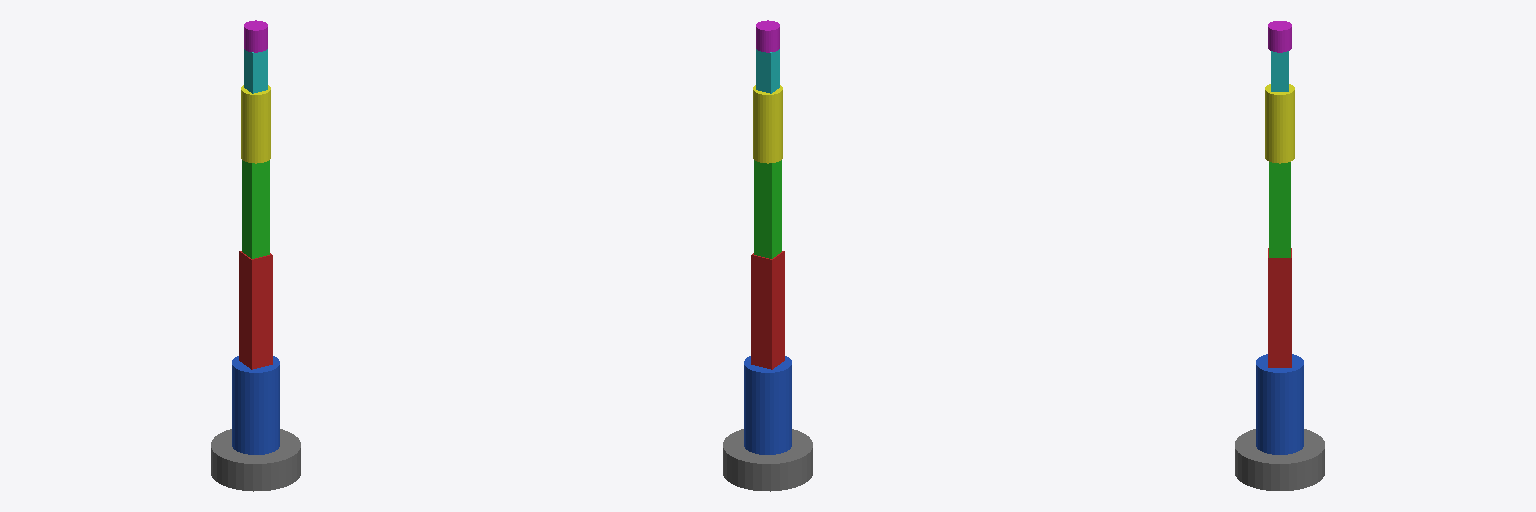
URDF robot description (six_axis_arm):
<?xml version="1.0"?>
<robot name="six_axis_arm">
  
  <!-- Base Link -->
  <link name="base_link">
    <visual>
      <geometry>
        <cylinder length="0.1" radius="0.15"/>
      </geometry>
      <origin xyz="0 0 0.05" rpy="0 0 0"/>
      <material name="gray">
        <color rgba="0.5 0.5 0.5 1"/>
      </material>
    </visual>
    <collision>
      <geometry>
        <cylinder length="0.1" radius="0.15"/>
      </geometry>
      <origin xyz="0 0 0.05" rpy="0 0 0"/>
    </collision>
    <inertial>
      <mass value="5.0"/>
      <origin xyz="0 0 0.05" rpy="0 0 0"/>
      <inertia ixx="0.1" ixy="0" ixz="0" iyy="0.1" iyz="0" izz="0.1"/>
    </inertial>
  </link>

  <!-- Link 1 -->
  <link name="link1">
    <visual>
      <geometry>
        <cylinder length="0.3" radius="0.08"/>
      </geometry>
      <origin xyz="0 0 0.15" rpy="0 0 0"/>
      <material name="blue">
        <color rgba="0.2 0.4 0.8 1"/>
      </material>
    </visual>
    <collision>
      <geometry>
        <cylinder length="0.3" radius="0.08"/>
      </geometry>
      <origin xyz="0 0 0.15" rpy="0 0 0"/>
    </collision>
    <inertial>
      <mass value="3.0"/>
      <origin xyz="0 0 0.15" rpy="0 0 0"/>
      <inertia ixx="0.05" ixy="0" ixz="0" iyy="0.05" iyz="0" izz="0.02"/>
    </inertial>
  </link>

  <!-- Joint 1: Base to Link 1 (Revolute, Z-axis rotation) -->
  <joint name="joint1" type="revolute">
    <parent link="base_link"/>
    <child link="link1"/>
    <origin xyz="0 0 0.1" rpy="0 0 0"/>
    <axis xyz="0 0 1"/>
    <limit lower="-3.14159" upper="3.14159" effort="100" velocity="1.0"/>
  </joint>

  <!-- Link 2 -->
  <link name="link2">
    <visual>
      <geometry>
        <box size="0.08 0.08 0.4"/>
      </geometry>
      <origin xyz="0 0 0.2" rpy="0 0 0"/>
      <material name="red">
        <color rgba="0.8 0.2 0.2 1"/>
      </material>
    </visual>
    <collision>
      <geometry>
        <box size="0.08 0.08 0.4"/>
      </geometry>
      <origin xyz="0 0 0.2" rpy="0 0 0"/>
    </collision>
    <inertial>
      <mass value="2.5"/>
      <origin xyz="0 0 0.2" rpy="0 0 0"/>
      <inertia ixx="0.04" ixy="0" ixz="0" iyy="0.04" iyz="0" izz="0.015"/>
    </inertial>
  </link>

  <!-- Joint 2: Link 1 to Link 2 (Revolute, Y-axis rotation) -->
  <joint name="joint2" type="revolute">
    <parent link="link1"/>
    <child link="link2"/>
    <origin xyz="0 0 0.3" rpy="0 0 0"/>
    <axis xyz="0 1 0"/>
    <limit lower="-1.57" upper="1.57" effort="100" velocity="1.0"/>
  </joint>

  <!-- Link 3 -->
  <link name="link3">
    <visual>
      <geometry>
        <box size="0.07 0.07 0.35"/>
      </geometry>
      <origin xyz="0 0 0.175" rpy="0 0 0"/>
      <material name="green">
        <color rgba="0.2 0.8 0.2 1"/>
      </material>
    </visual>
    <collision>
      <geometry>
        <box size="0.07 0.07 0.35"/>
      </geometry>
      <origin xyz="0 0 0.175" rpy="0 0 0"/>
    </collision>
    <inertial>
      <mass value="2.0"/>
      <origin xyz="0 0 0.175" rpy="0 0 0"/>
      <inertia ixx="0.03" ixy="0" ixz="0" iyy="0.03" iyz="0" izz="0.01"/>
    </inertial>
  </link>

  <!-- Joint 3: Link 2 to Link 3 (Revolute, Y-axis rotation) -->
  <joint name="joint3" type="revolute">
    <parent link="link2"/>
    <child link="link3"/>
    <origin xyz="0 0 0.4" rpy="0 0 0"/>
    <axis xyz="0 1 0"/>
    <limit lower="-2.0" upper="2.0" effort="100" velocity="1.0"/>
  </joint>

  <!-- Link 4 -->
  <link name="link4">
    <visual>
      <geometry>
        <cylinder length="0.25" radius="0.05"/>
      </geometry>
      <origin xyz="0 0 0.125" rpy="0 0 0"/>
      <material name="yellow">
        <color rgba="0.9 0.9 0.2 1"/>
      </material>
    </visual>
    <collision>
      <geometry>
        <cylinder length="0.25" radius="0.05"/>
      </geometry>
      <origin xyz="0 0 0.125" rpy="0 0 0"/>
    </collision>
    <inertial>
      <mass value="1.5"/>
      <origin xyz="0 0 0.125" rpy="0 0 0"/>
      <inertia ixx="0.02" ixy="0" ixz="0" iyy="0.02" iyz="0" izz="0.008"/>
    </inertial>
  </link>

  <!-- Joint 4: Link 3 to Link 4 (Revolute, Z-axis rotation) -->
  <joint name="joint4" type="revolute">
    <parent link="link3"/>
    <child link="link4"/>
    <origin xyz="0 0 0.35" rpy="0 0 0"/>
    <axis xyz="0 0 1"/>
    <limit lower="-3.14159" upper="3.14159" effort="50" velocity="1.5"/>
  </joint>

  <!-- Link 5 -->
  <link name="link5">
    <visual>
      <geometry>
        <box size="0.06 0.06 0.15"/>
      </geometry>
      <origin xyz="0 0 0.075" rpy="0 0 0"/>
      <material name="cyan">
        <color rgba="0.2 0.8 0.8 1"/>
      </material>
    </visual>
    <collision>
      <geometry>
        <box size="0.06 0.06 0.15"/>
      </geometry>
      <origin xyz="0 0 0.075" rpy="0 0 0"/>
    </collision>
    <inertial>
      <mass value="1.0"/>
      <origin xyz="0 0 0.075" rpy="0 0 0"/>
      <inertia ixx="0.01" ixy="0" ixz="0" iyy="0.01" iyz="0" izz="0.005"/>
    </inertial>
  </link>

  <!-- Joint 5: Link 4 to Link 5 (Revolute, Y-axis rotation) -->
  <joint name="joint5" type="revolute">
    <parent link="link4"/>
    <child link="link5"/>
    <origin xyz="0 0 0.25" rpy="0 0 0"/>
    <axis xyz="0 1 0"/>
    <limit lower="-1.57" upper="1.57" effort="50" velocity="1.5"/>
  </joint>

  <!-- Link 6 (End Effector) -->
  <link name="link6">
    <visual>
      <geometry>
        <cylinder length="0.08" radius="0.04"/>
      </geometry>
      <origin xyz="0 0 0.04" rpy="0 0 0"/>
      <material name="magenta">
        <color rgba="0.8 0.2 0.8 1"/>
      </material>
    </visual>
    <collision>
      <geometry>
        <cylinder length="0.08" radius="0.04"/>
      </geometry>
      <origin xyz="0 0 0.04" rpy="0 0 0"/>
    </collision>
    <inertial>
      <mass value="0.5"/>
      <origin xyz="0 0 0.04" rpy="0 0 0"/>
      <inertia ixx="0.005" ixy="0" ixz="0" iyy="0.005" iyz="0" izz="0.003"/>
    </inertial>
  </link>

  <!-- Joint 6: Link 5 to Link 6 (Revolute, Z-axis rotation) -->
  <joint name="joint6" type="revolute">
    <parent link="link5"/>
    <child link="link6"/>
    <origin xyz="0 0 0.15" rpy="0 0 0"/>
    <axis xyz="0 0 1"/>
    <limit lower="-3.14159" upper="3.14159" effort="25" velocity="2.0"/>
  </joint>

</robot>

--- Render facts (derived) ---
3 views of the same robot in one strip: view 1: azimuth 30°, elevation 25°; view 2: azimuth 150°, elevation 25°; view 3: azimuth 270°, elevation 25° (orthographic).
Model six_axis_arm with 7 links and 6 joints (6 revolute), rooted at base_link, posed every joint at zero.
Visible links, largest first — view 1: link1, base_link, link2, link3, link4, link5, link6; view 2: link1, base_link, link2, link3, link4, link5, link6; view 3: link1, base_link, link2, link4, link3, link5, link6.
Link boxes in pixels (bbox=[...]): link1: bbox=[232, 356, 279, 454]; base_link: bbox=[211, 429, 300, 491]; link2: bbox=[239, 251, 272, 369]; link3: bbox=[242, 160, 269, 258]; link4: bbox=[241, 85, 270, 163]; link5: bbox=[244, 49, 267, 93]; link6: bbox=[244, 20, 267, 52]; link1: bbox=[744, 356, 791, 454]; base_link: bbox=[723, 429, 812, 491]; link2: bbox=[751, 251, 784, 369]; link3: bbox=[754, 160, 781, 258]; link4: bbox=[753, 85, 782, 163]; link5: bbox=[756, 49, 779, 93]; link6: bbox=[756, 20, 779, 52]; link1: bbox=[1256, 354, 1303, 454]; base_link: bbox=[1235, 429, 1324, 490]; link2: bbox=[1268, 248, 1291, 367]; link4: bbox=[1265, 84, 1294, 163]; link3: bbox=[1269, 162, 1290, 257]; link5: bbox=[1271, 51, 1288, 91]; link6: bbox=[1268, 21, 1291, 52].
Bounding box of the posed robot: 0.3 × 0.3 × 1.63 m (x, y, z).
Geometry: primitives only (box / cylinder / sphere), no mesh files.